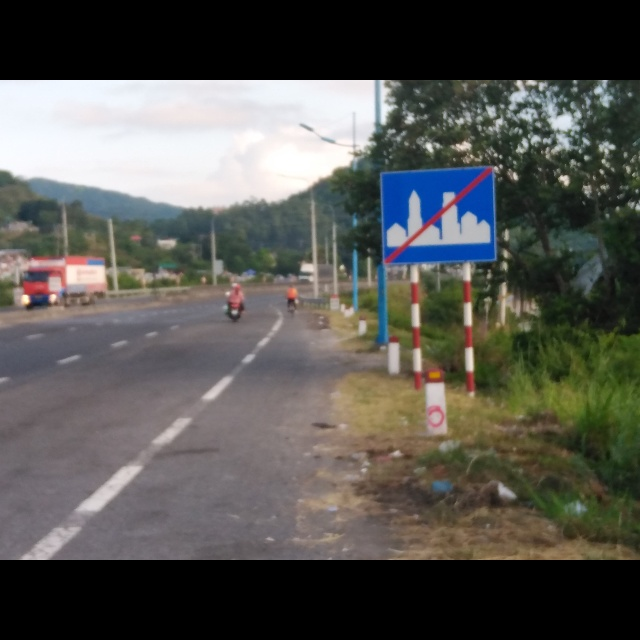Hết khu đông dân cư: (381, 161, 499, 264)
